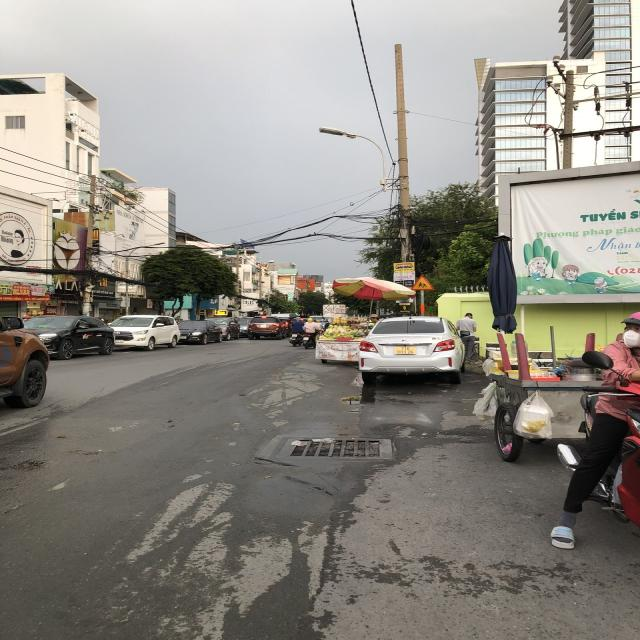Bien bao tre em: (408, 271, 438, 292)
